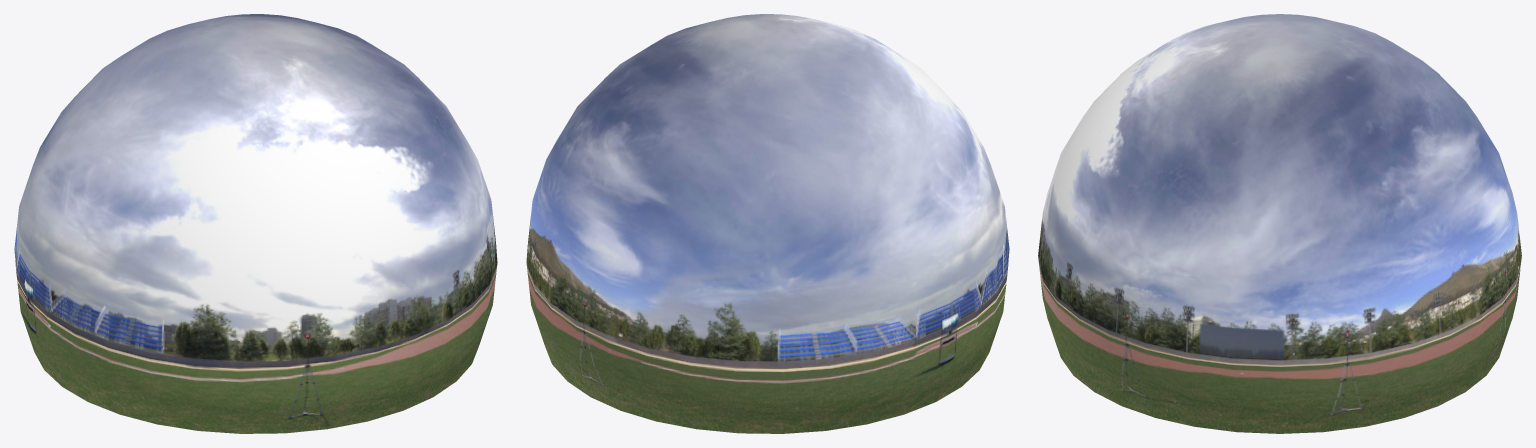
The model's file is Interior 59.glb.
3 renders of one model, left to right at view 1: azimuth 30°, elevation 25°; view 2: azimuth 150°, elevation 25°; view 3: azimuth 270°, elevation 25°, orthographic.
Visible parts, largest first — view 1: Sphere; view 2: Sphere; view 3: Sphere.
Boxes of the visible parts, x1,y1,x2,y2 form: Sphere: (14,14,497,433); Sphere: (526,14,1009,433); Sphere: (1038,14,1521,433).
Size of the model in its own units: 20 by 13.83 by 20.
Materials: 1 (1 with a texture image).
